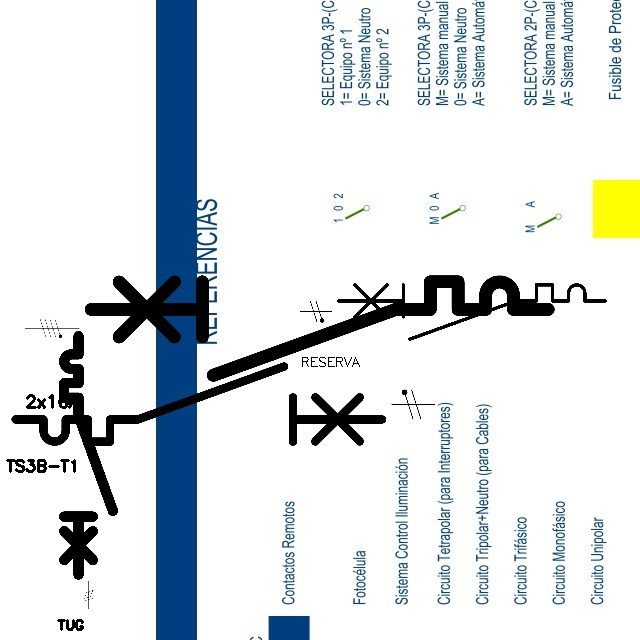interruptor_termomagnetico: (79, 270, 559, 387), (6, 357, 391, 451), (331, 278, 612, 346), (58, 330, 119, 580)
